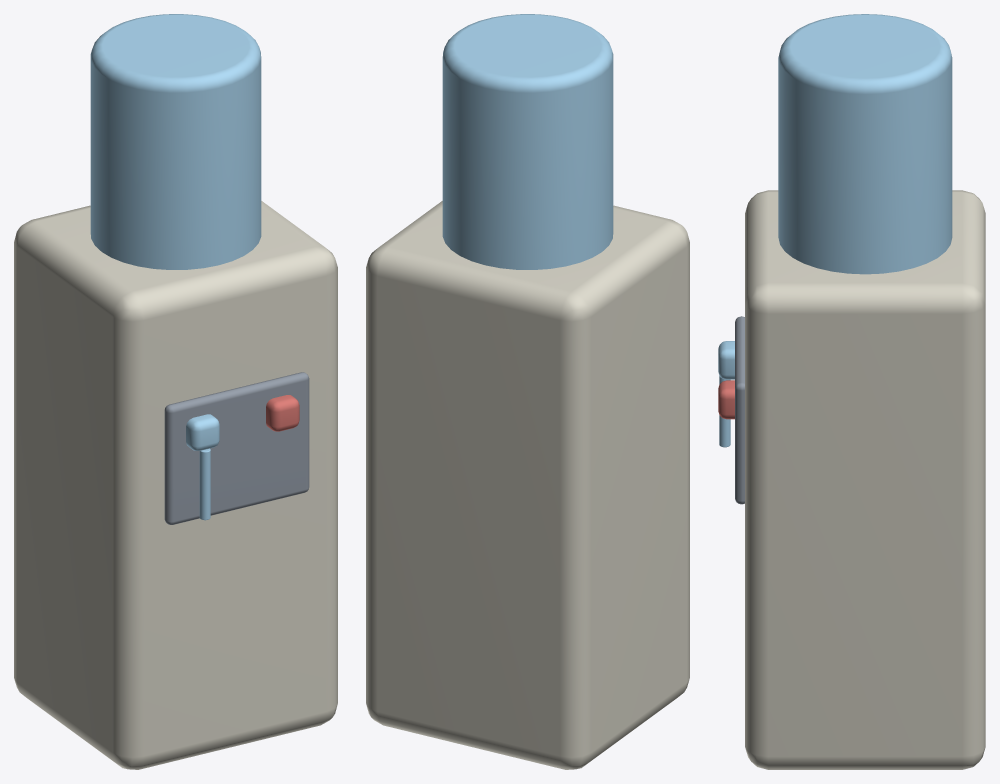
The model's file is officeWaterDispenserAni.glb.
3 views of the same model, side by side, from view 1: azimuth 30°, elevation 25°; view 2: azimuth 150°, elevation 25°; view 3: azimuth 270°, elevation 25° (orthographic).
Visible parts, largest first — view 1: Water cooler, Water bottle, Dispenser recess, Tap button, Tap button.001, Interaction water; view 2: Water cooler, Water bottle; view 3: Water cooler, Water bottle, Dispenser recess, Tap button.001, Tap button.
Boxes of the visible parts, left/top/right/bottom form: Water cooler: left=14, top=201, right=337, bottom=769; Water bottle: left=90, top=14, right=261, bottom=269; Dispenser recess: left=164, top=372, right=309, bottom=524; Tap button: left=186, top=414, right=219, bottom=450; Tap button.001: left=266, top=395, right=299, bottom=431; Interaction water: left=199, top=448, right=210, bottom=520; Water cooler: left=366, top=201, right=689, bottom=769; Water bottle: left=442, top=14, right=613, bottom=269; Water cooler: left=745, top=190, right=985, bottom=769; Water bottle: left=778, top=14, right=952, bottom=274; Dispenser recess: left=735, top=316, right=744, bottom=504; Tap button.001: left=718, top=380, right=734, bottom=419; Tap button: left=718, top=341, right=734, bottom=379.
Bounding box in the file's own units: 0.78 × 2.23 × 0.8.
